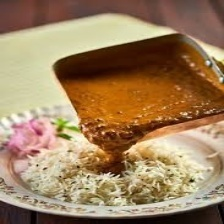rice: (20, 138, 213, 201)
